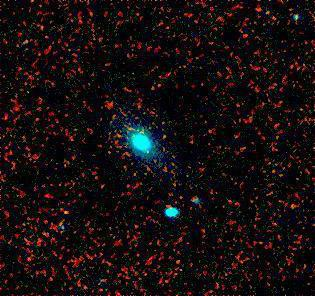star: (52, 199, 82, 229)
